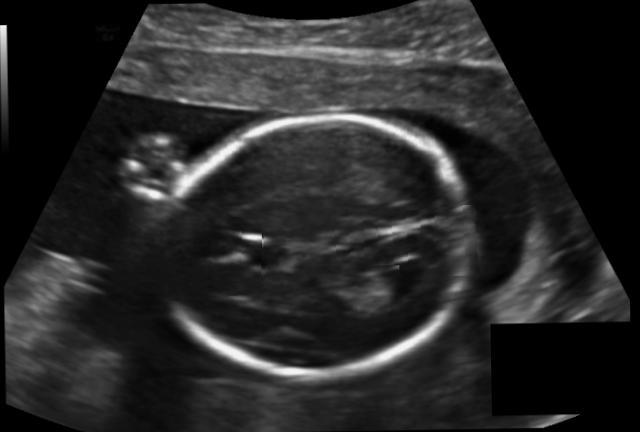CHOROID_PLEXUS: (314, 264, 401, 326)
CSP: (190, 216, 262, 282)
MIDLINE_FALX: (164, 210, 478, 296)
